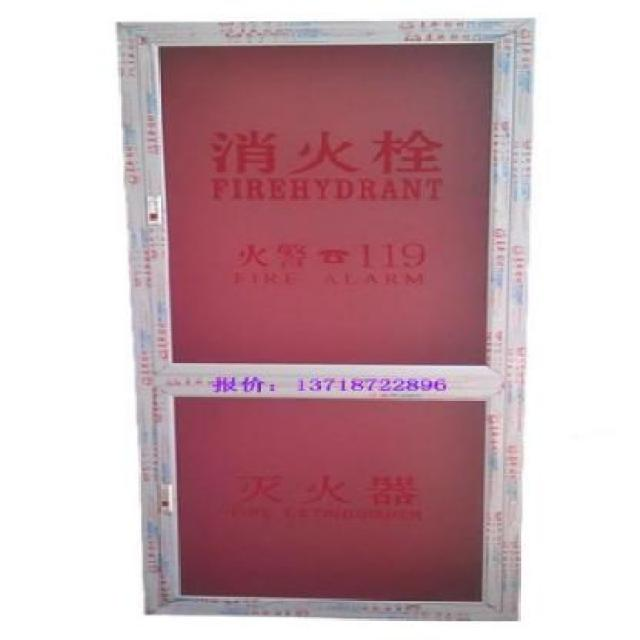firehydrant: (108, 12, 544, 625)
